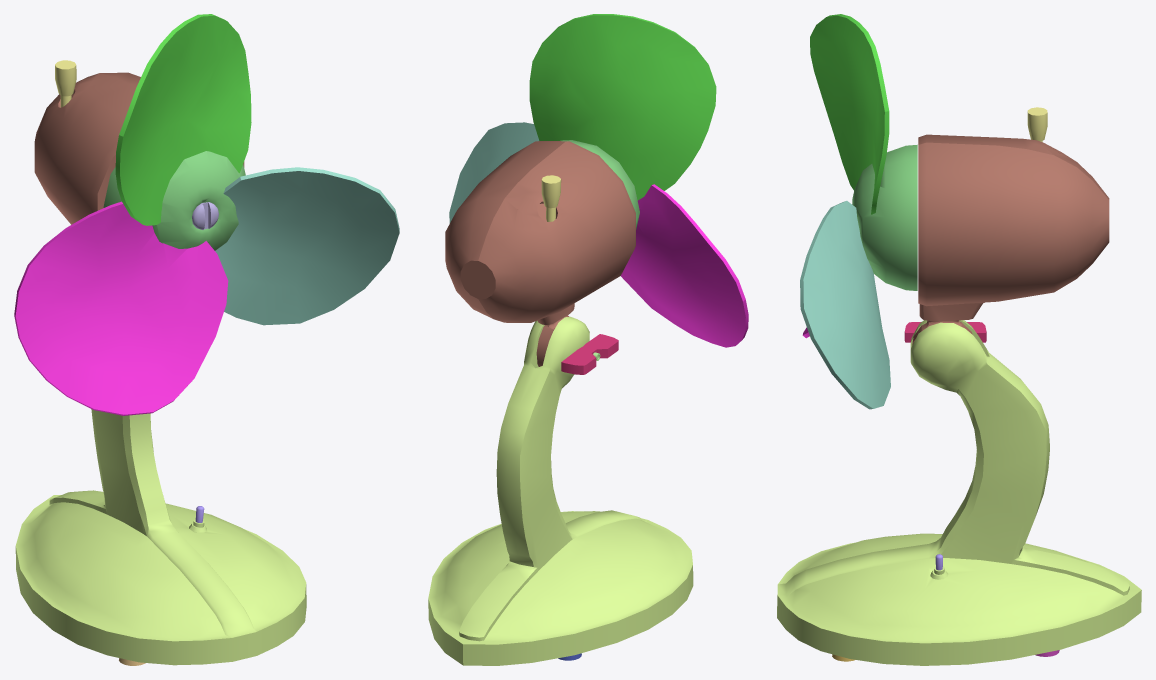
The picture shows the model from 3 angles, left to right: view 1: azimuth 30°, elevation 25°; view 2: azimuth 150°, elevation 25°; view 3: azimuth 270°, elevation 25°; orthographic projection. The views are drawn at different scales.
Visible parts, largest first — view 1: split_parent_0, split_parent_6, split_parent_5, split_parent_4, split_parent_1, Object_7.037, Object_7.033, Object_7.054; view 2: split_parent_0, split_parent_1, split_parent_4, split_parent_6, split_parent_5, split_parent_8, Object_7.037, Object_7.033; view 3: split_parent_0, split_parent_1, split_parent_5, split_parent_4, Object_7.037, Object_7.033.
Part boxes in pixels (x1,y1,x2,y2): split_parent_0: [15, 409, 306, 665]; split_parent_6: [14, 201, 228, 415]; split_parent_5: [215, 167, 399, 325]; split_parent_4: [115, 14, 251, 225]; split_parent_1: [34, 72, 244, 224]; Object_7.037: [103, 151, 245, 250]; Object_7.033: [55, 60, 76, 107]; Object_7.054: [192, 202, 218, 229]; split_parent_0: [428, 316, 693, 665]; split_parent_1: [445, 141, 635, 366]; split_parent_4: [529, 14, 716, 200]; split_parent_6: [621, 184, 748, 347]; split_parent_5: [449, 122, 539, 223]; split_parent_8: [561, 334, 618, 374]; Object_7.037: [560, 140, 639, 229]; Object_7.033: [541, 175, 561, 221]; split_parent_0: [777, 320, 1141, 665]; split_parent_1: [912, 134, 1109, 345]; split_parent_5: [800, 201, 890, 409]; split_parent_4: [810, 14, 889, 214]; Object_7.037: [852, 144, 917, 290]; Object_7.033: [1027, 107, 1047, 141].
Size of the model in its own units: 0.5915 by 1 by 0.5597.
